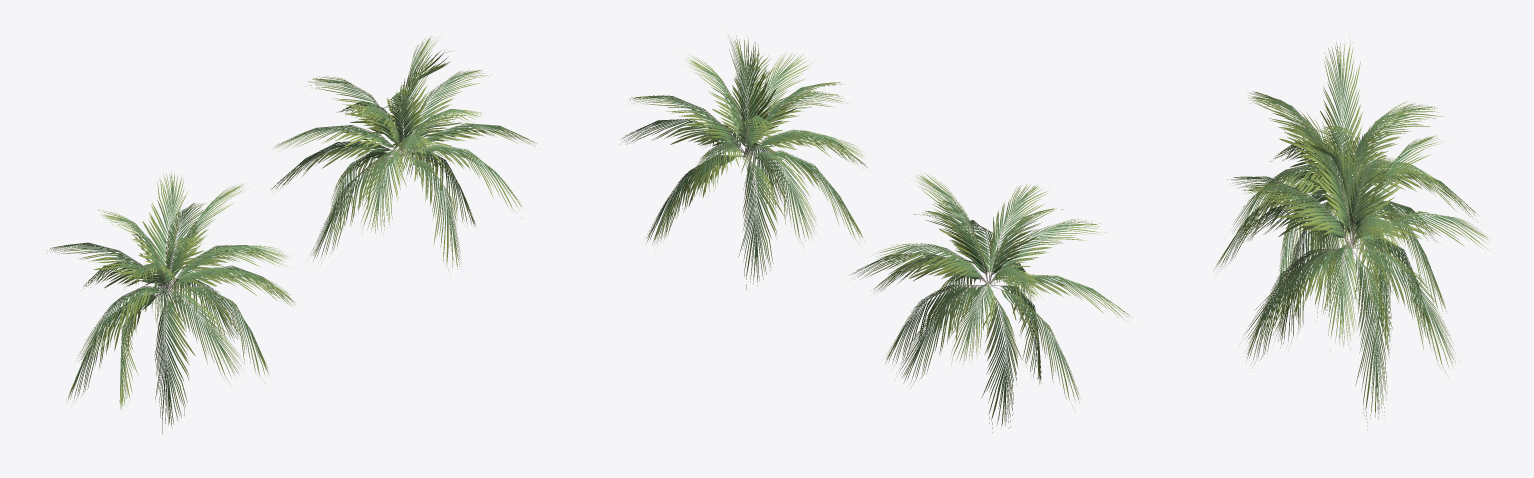
Rendered from m_palm_p2_16_leaf_0.glb.
3 renders of one model, left to right at view 1: azimuth 30°, elevation 25°; view 2: azimuth 150°, elevation 25°; view 3: azimuth 270°, elevation 25°, orthographic. The views are drawn at different scales.
Visible parts, largest first — view 1: M_Palm_P2_16_Leaf_0; view 2: M_Palm_P2_16_Leaf_0; view 3: M_Palm_P2_16_Leaf_0.
Part boxes in pixels (x1,y1,x2,y2): M_Palm_P2_16_Leaf_0: (47, 33, 540, 433); M_Palm_P2_16_Leaf_0: (619, 34, 1131, 432); M_Palm_P2_16_Leaf_0: (1214, 36, 1490, 429).
Bounding box in the file's own units: 7.18 × 4.35 × 3.15.
1 material, 1 textured.
